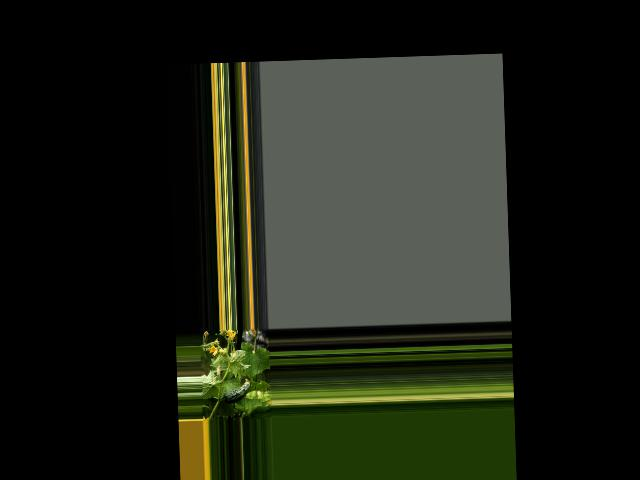cucumber: (221, 378, 251, 403)
